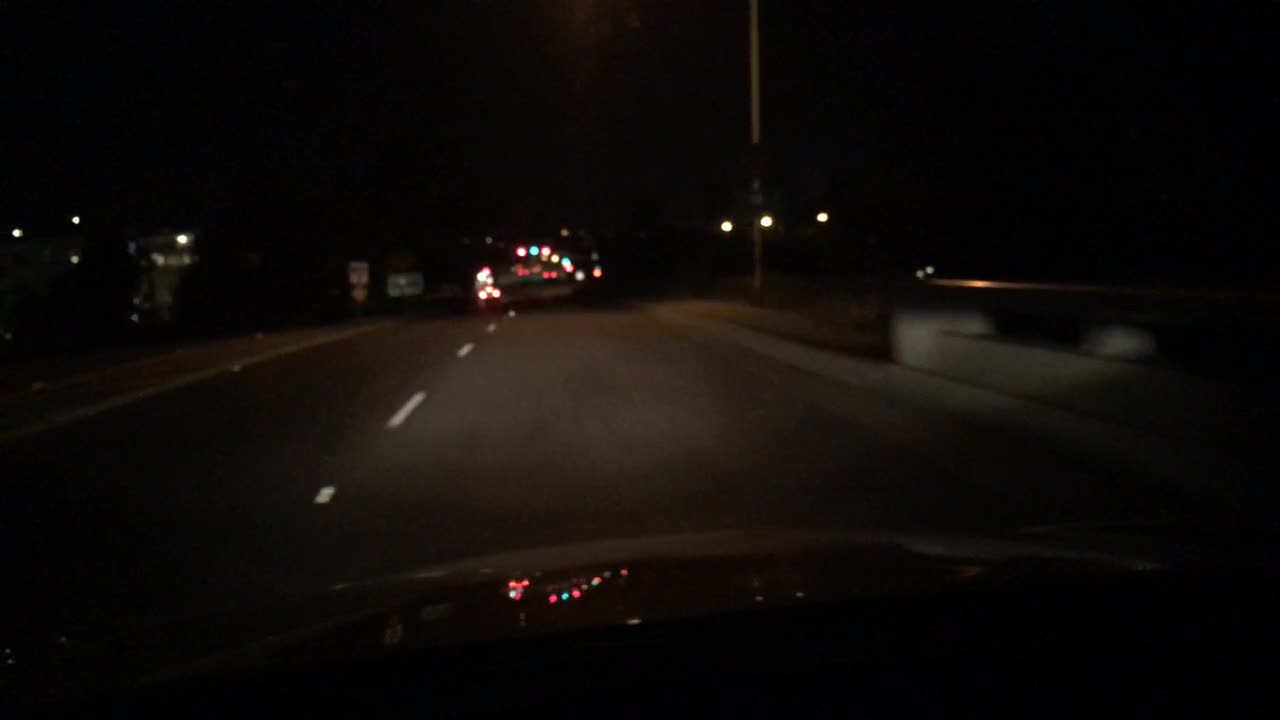car: (910, 257, 937, 284), (571, 263, 599, 283), (476, 282, 503, 300), (540, 267, 556, 279)
traffic light: (527, 242, 537, 257), (515, 245, 525, 259), (541, 245, 550, 259)
traffic sign: (387, 270, 426, 296), (348, 260, 369, 285)
